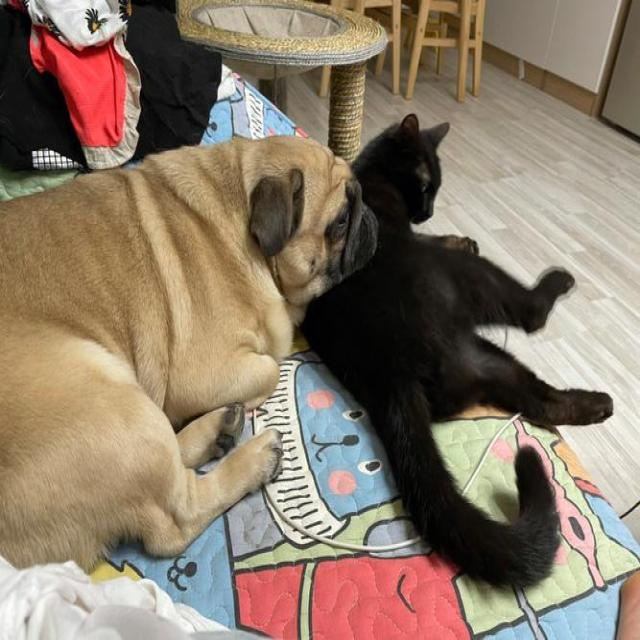cat: (348, 91, 502, 286)
dog: (222, 99, 379, 346)
